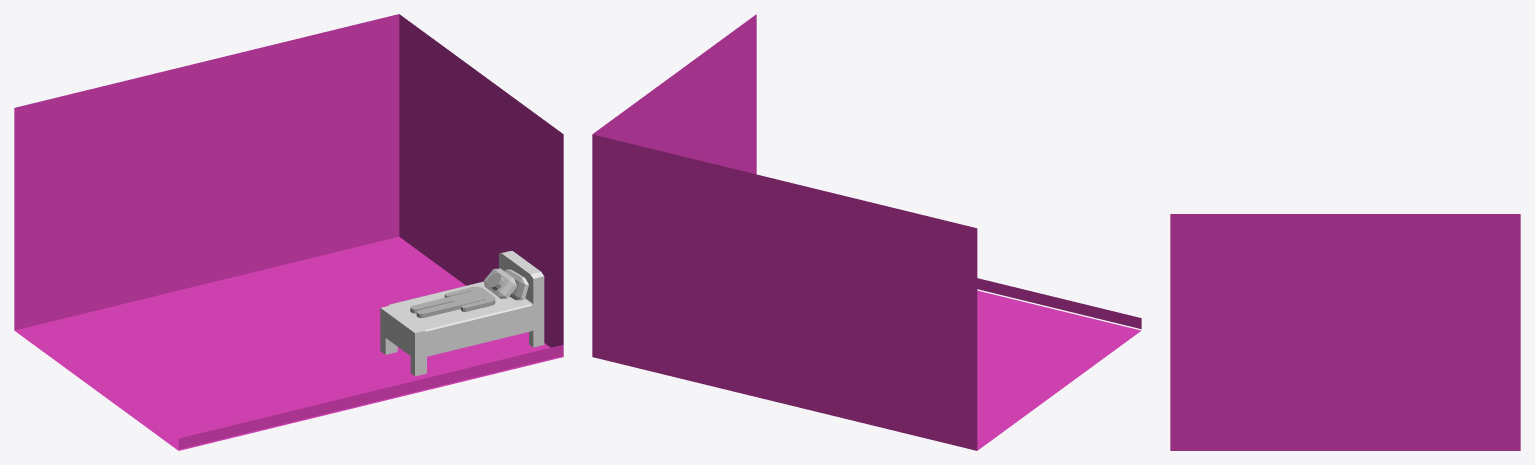
The picture shows the model from 3 angles, left to right: view 1: azimuth 30°, elevation 25°; view 2: azimuth 150°, elevation 25°; view 3: azimuth 270°, elevation 25°; orthographic projection. The views are drawn at different scales.
Parts seen in each view (by area): view 1: Cube, Cube.004, Cube.005, Cube.001, polySurface1.001, polySurface1; view 2: Cube, Cube.005; view 3: Cube.
Part boxes in pixels (<box>): Cube: <box>14,14,563,450</box>; Cube.004: <box>388,281,531,356</box>; Cube.005: <box>178,344,563,449</box>; Cube.001: <box>380,251,544,376</box>; polySurface1.001: <box>444,286,495,311</box>; polySurface1: <box>410,297,458,318</box>; Cube: <box>592,14,1140,450</box>; Cube.005: <box>977,278,1141,329</box>; Cube: <box>1170,214,1520,450</box>.
Bounding box in the file's own units: 3084 × 1705 × 2282.
